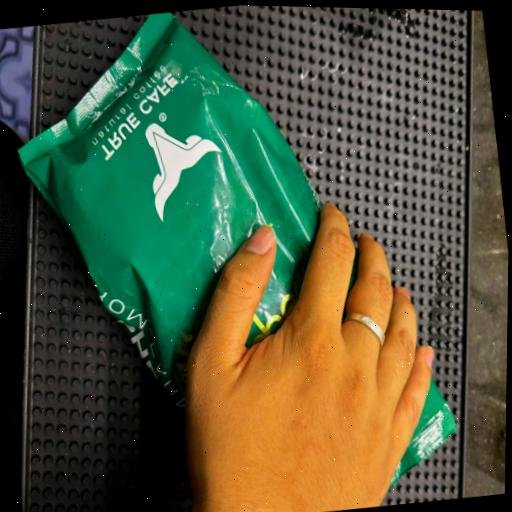cafe_xay: (18, 12, 320, 408), (390, 382, 455, 487)
